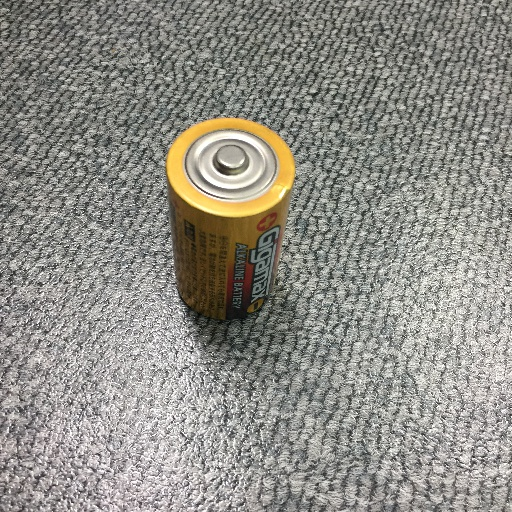Battery_0: (155, 104, 315, 337)
